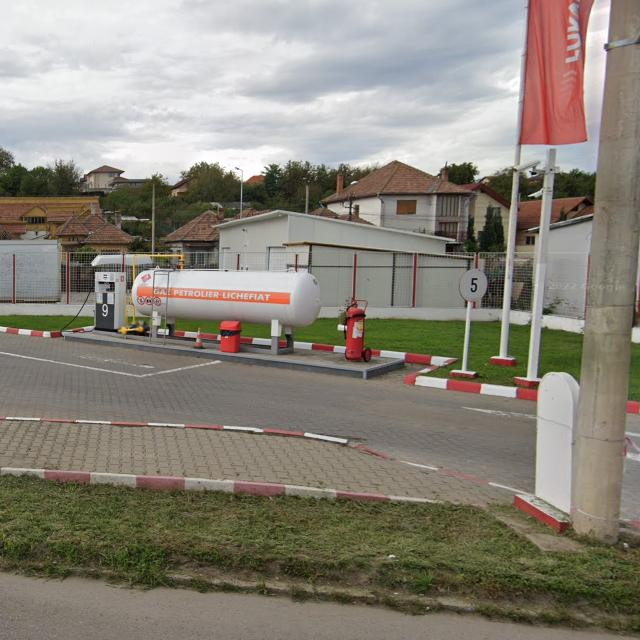forb_speed_over_5: (459, 268, 488, 300)
